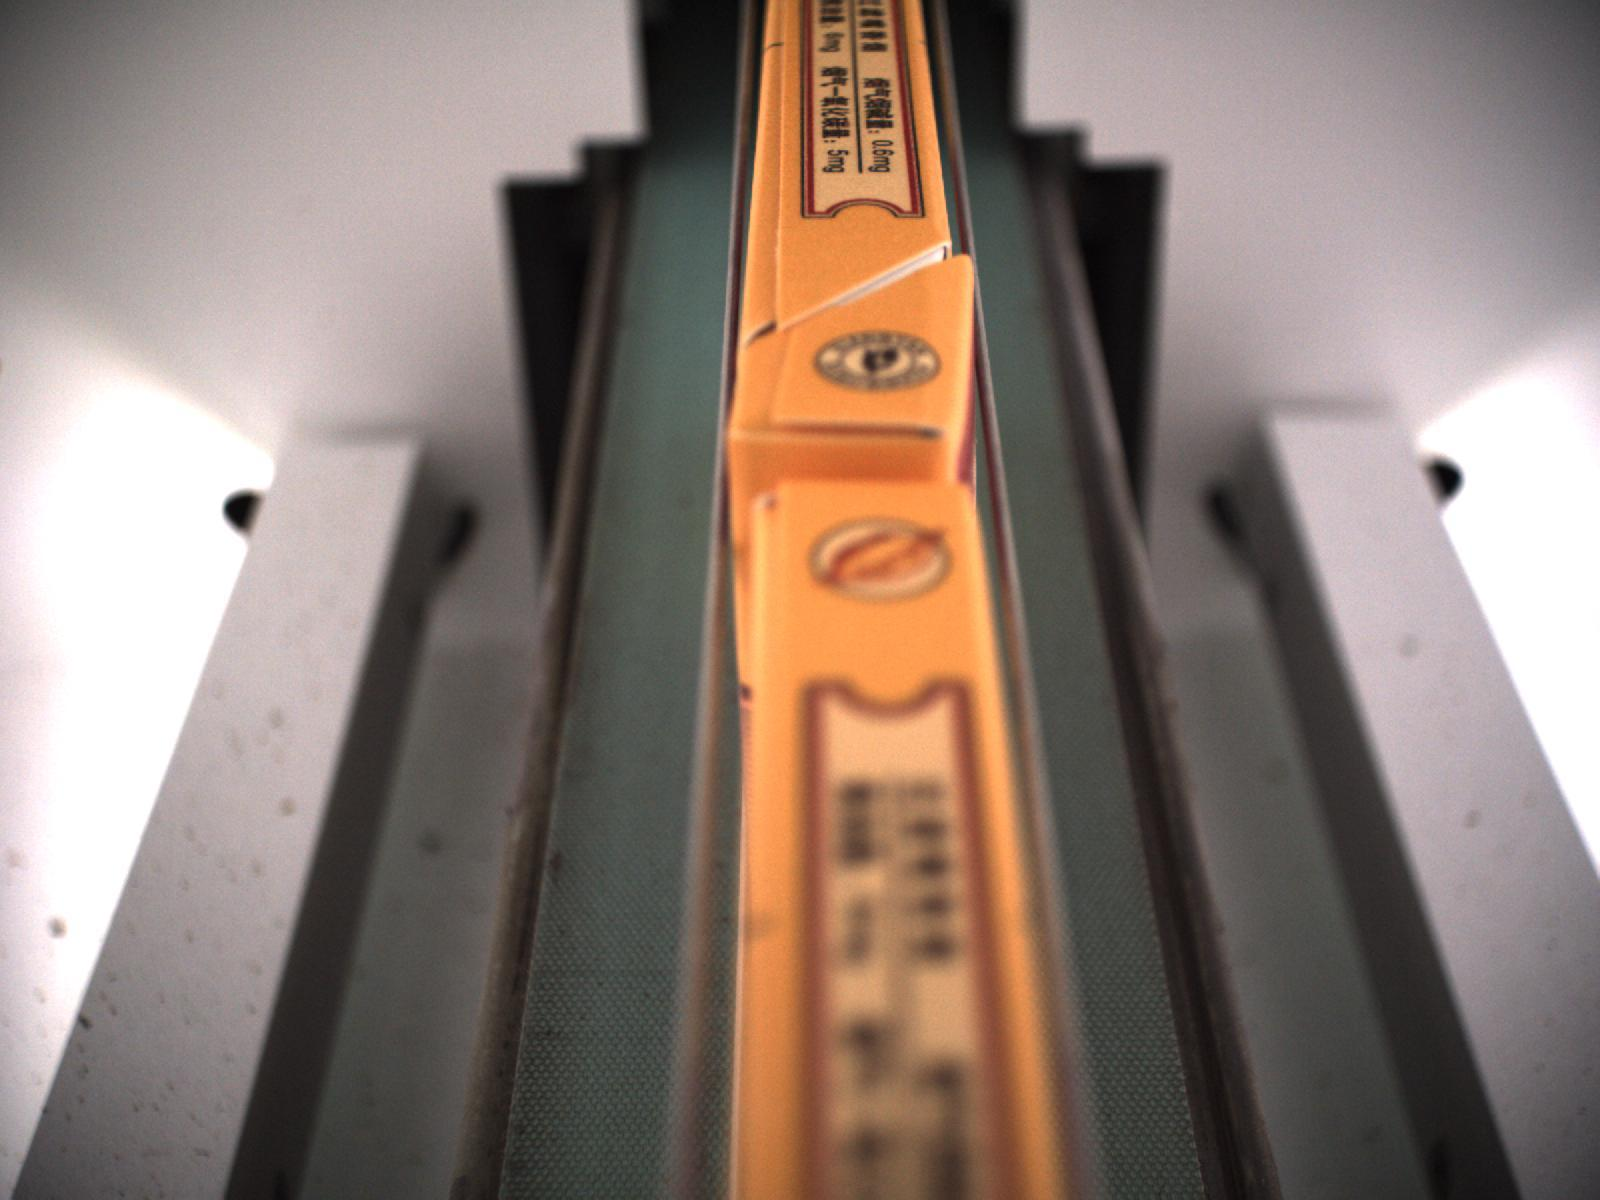headDamage_upper_2: (733, 332, 964, 449)
skewed_upper_2: (743, 31, 807, 347)
